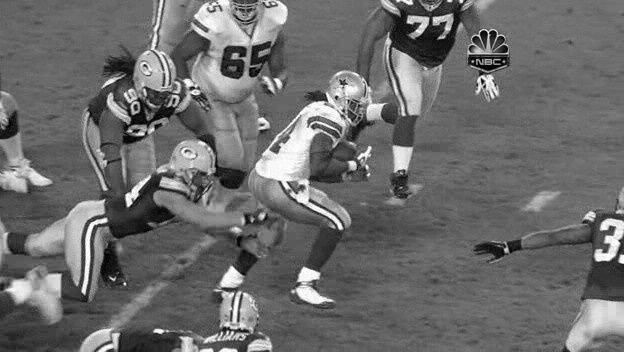person: (331, 73, 367, 123), (330, 73, 366, 123), (332, 73, 368, 123), (331, 72, 367, 122), (331, 74, 367, 124)
target_negative: (33, 13, 433, 228), (139, 230, 499, 327), (399, 72, 604, 205), (581, 35, 619, 315), (460, 184, 526, 277), (487, 324, 554, 351)
